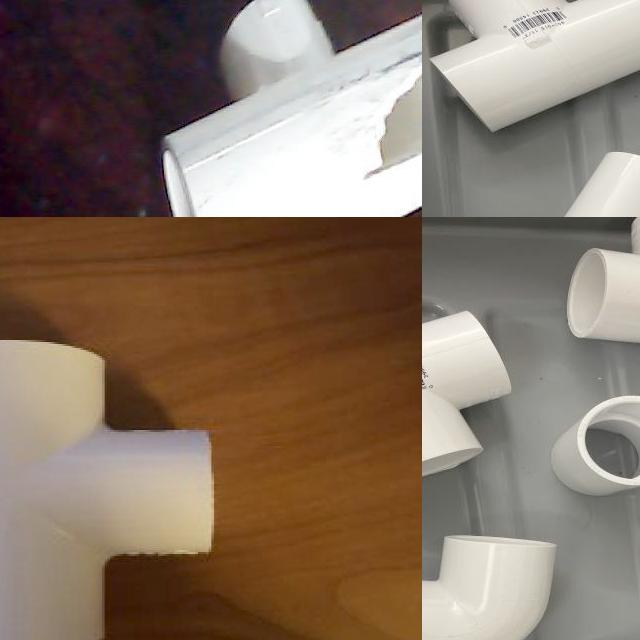Defective: (340, 41, 422, 199)
L Joint: (422, 535, 559, 640)
T Joint: (0, 339, 216, 640), (161, 0, 422, 217), (429, 0, 640, 134), (422, 311, 511, 479), (567, 217, 640, 344)
